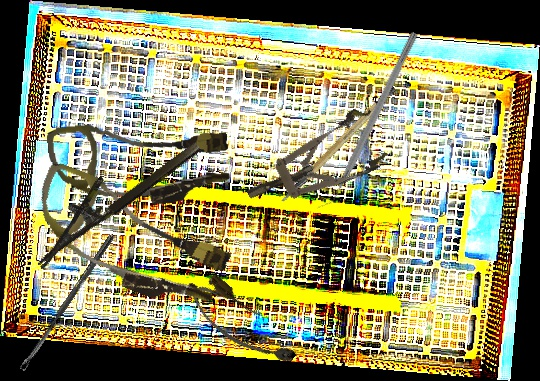Cannula: (19, 160, 240, 319), (45, 109, 234, 216), (186, 271, 302, 380)
Chopper: (314, 26, 419, 216)
Needle Holder: (17, 119, 204, 270)
Scalpel Handle: (264, 83, 410, 204)
Speculum: (234, 103, 394, 223)
Surgical Spoon: (18, 233, 115, 372)
